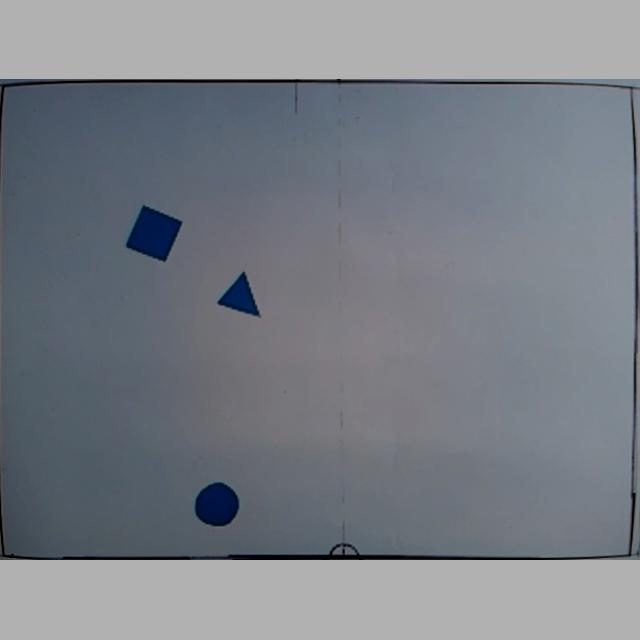blueCircle: (195, 483, 239, 529)
blueSquare: (126, 206, 182, 264)
blueTriangle: (216, 272, 262, 320)
